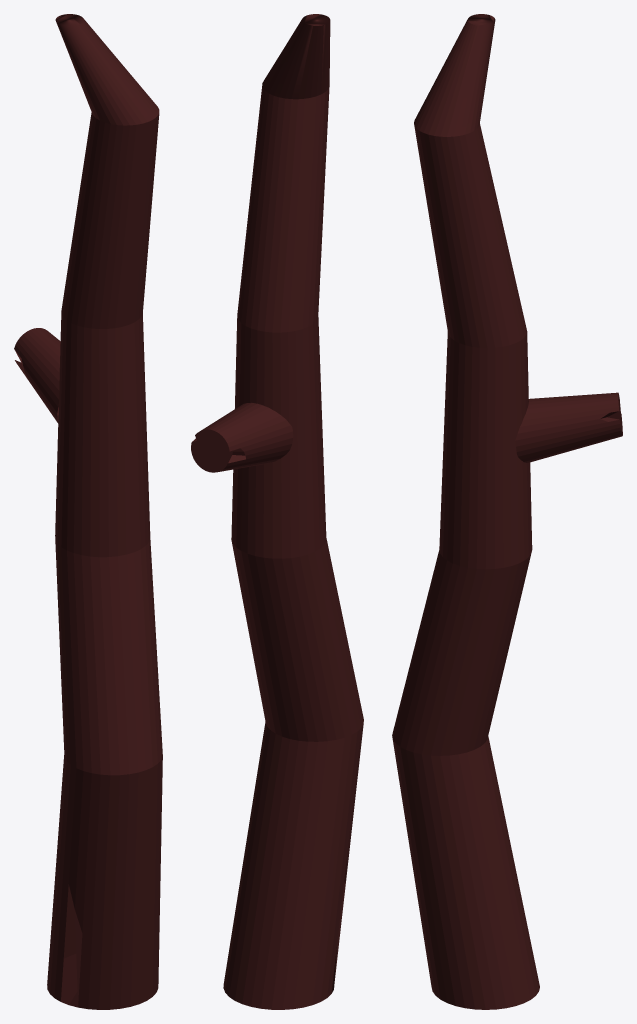
The model's file is stick.fbx.
The picture shows the model from 3 angles, left to right: view 1: azimuth 30°, elevation 25°; view 2: azimuth 150°, elevation 25°; view 3: azimuth 270°, elevation 25°; orthographic projection. The views are drawn at different scales.
Parts seen in each view (by area): view 1: Cylinder; view 2: Cylinder; view 3: Cylinder.
Boxes of the visible parts, x1,y1,x2,y2 form: Cylinder: (14,14,162,1009); Cylinder: (191,14,363,1009); Cylinder: (392,14,622,1009).
Bounding box in the file's own units: 215 × 1932 × 425.
